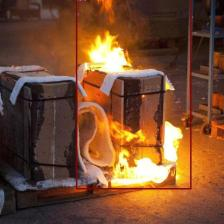fire: (75, 0, 191, 189)
